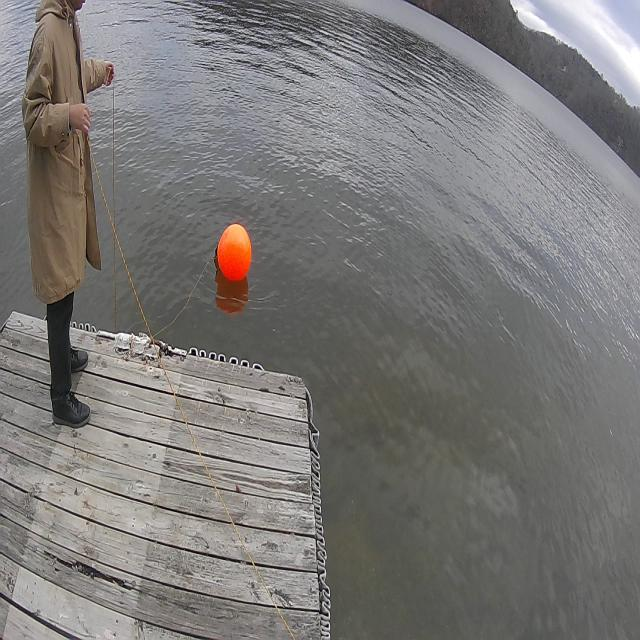Buoy: (214, 219, 254, 288)
